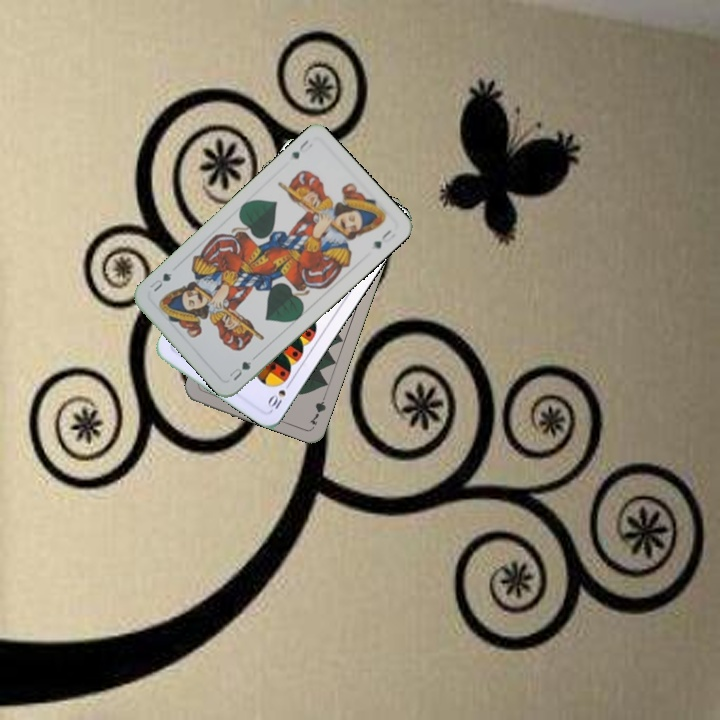G7: (305, 389, 329, 428)
GU: (225, 353, 258, 384), (287, 136, 315, 161)
S10: (263, 375, 294, 413)
